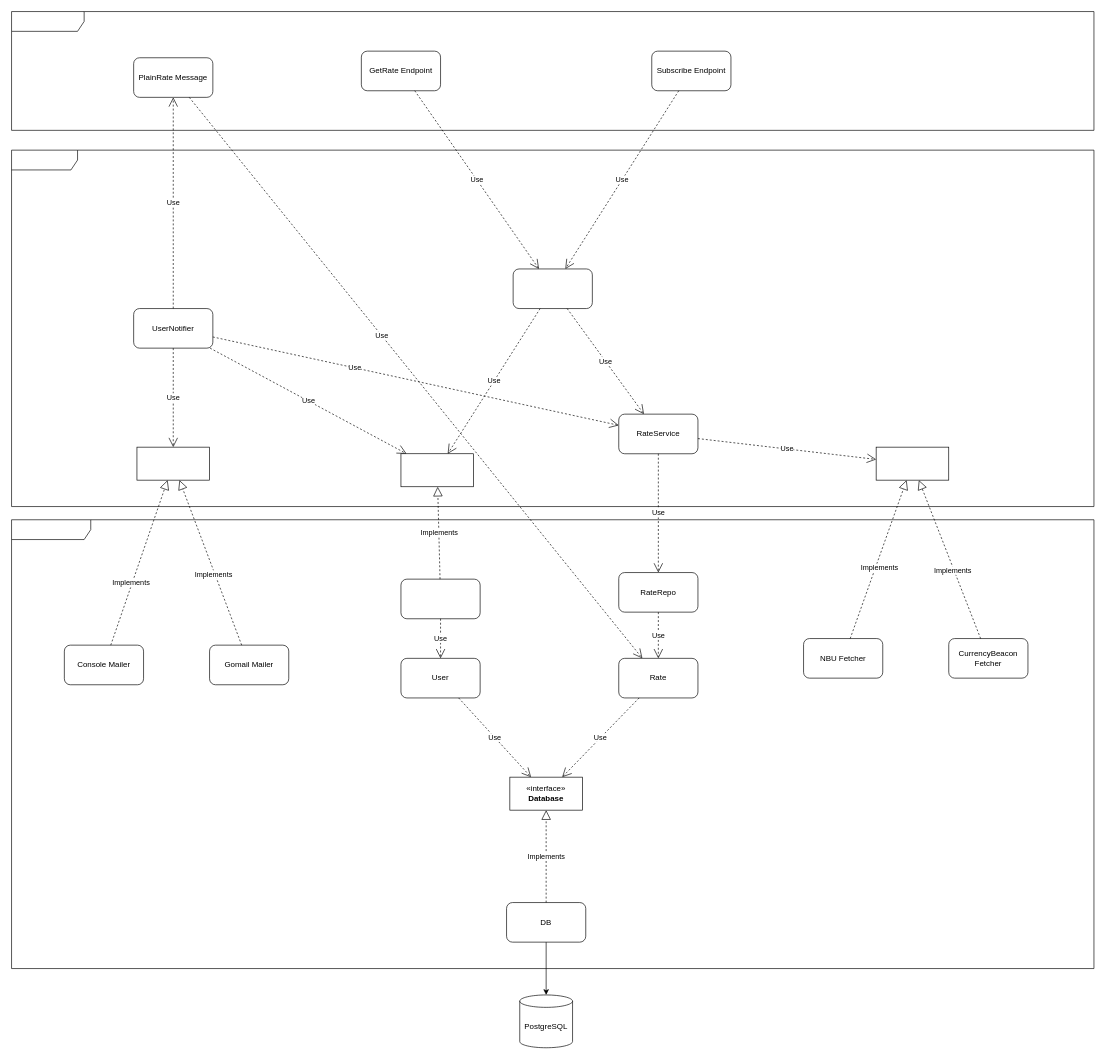
Some shapes in this 1106 by 1059 pixel diagram are drawn without their labels. The shapes that lost their labels are listed below. From the top down, each one's box as (x1, y1, x2, y2) in pixels, then its label:
(11, 11, 1094, 130): Presentation Layer
(512, 268, 592, 309): Client
(11, 149, 1094, 507): Business Layer
(136, 446, 210, 480): «interface» Mailer
(400, 453, 474, 487): «interface» UserRepository
(875, 446, 949, 480): «interface» Rate Fetcher
(400, 578, 480, 619): UserRepo
(11, 519, 1094, 969): Data Access Layer
